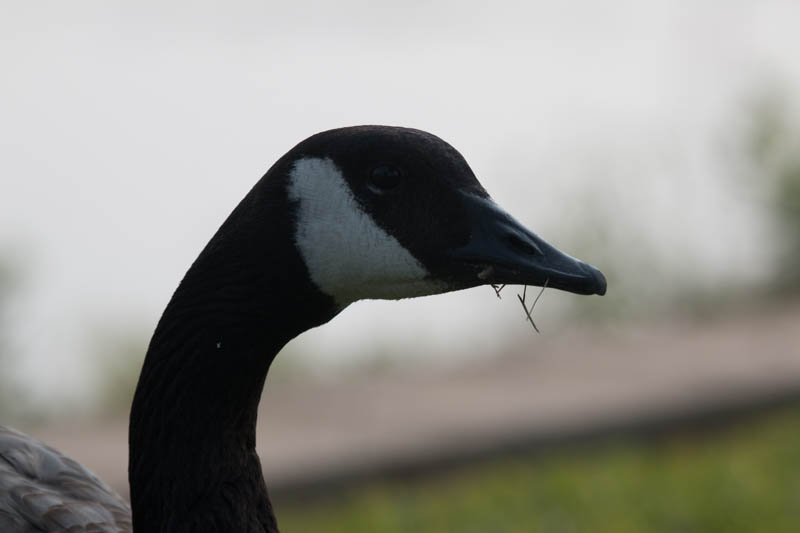goose-head: (268, 124, 606, 312)
